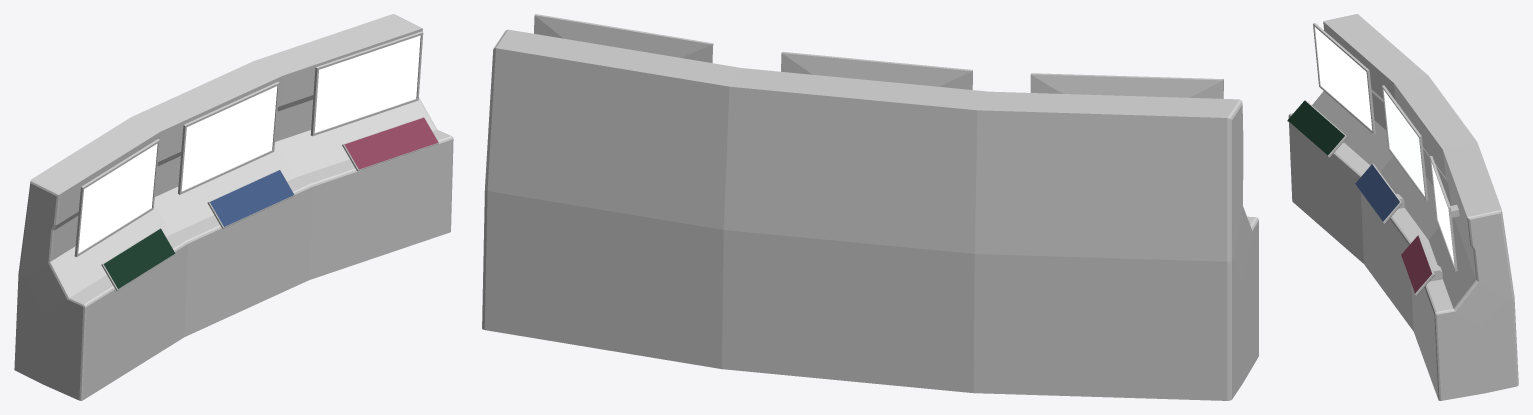
Rendered from Dome_middle_console-1.fbx.
3 views of the same model, side by side, from view 1: azimuth 30°, elevation 25°; view 2: azimuth 150°, elevation 25°; view 3: azimuth 270°, elevation 25° (orthographic). The views are drawn at different scales.
Parts seen in each view (by area): view 1: Console; view 2: Console; view 3: Console.
Part boxes in pixels (x1=…): Console: x1=14, y1=14, x2=453, y2=400; Console: x1=482, y1=14, x2=1258, y2=400; Console: x1=1287, y1=14, x2=1518, y2=400.
Bounding box in the file's own units: 406 × 165 × 188.
